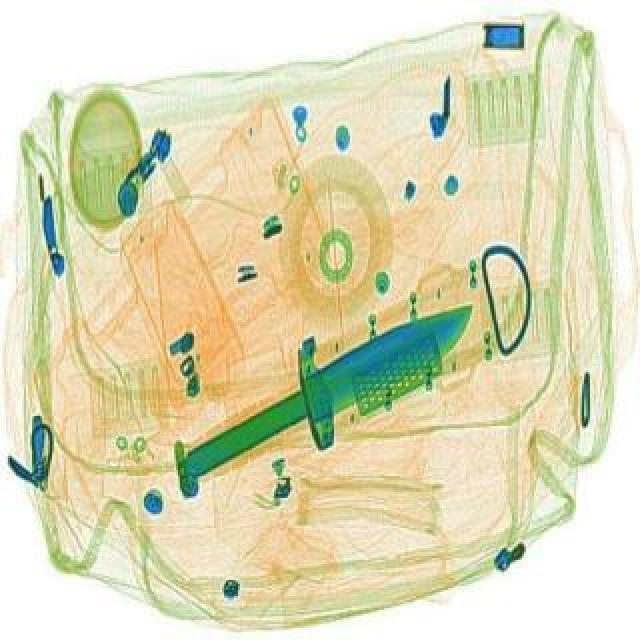knife: (134, 252, 504, 526)
